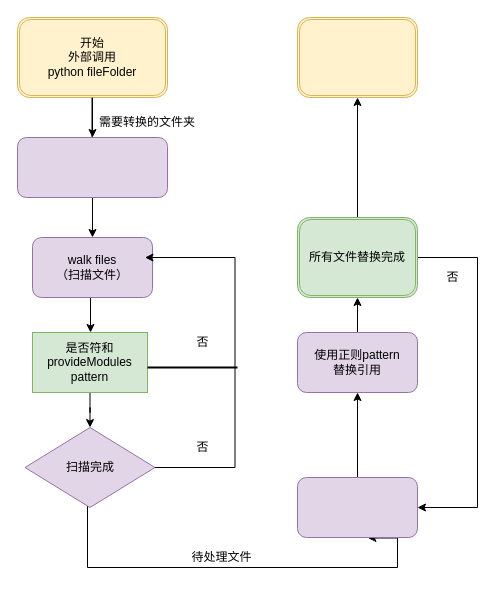
This 503x593 diagram has some shape labels left out. Each missing label, with the box of its shape:
process(ProjectPath): (16, 136, 168, 198)
处理收集的引用 processFile: (296, 476, 418, 538)
结束: (296, 16, 418, 98)
